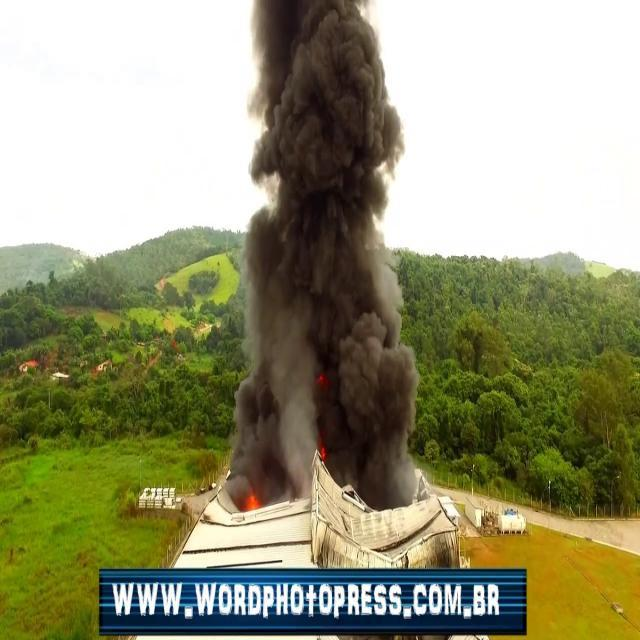Fire: (245, 494, 258, 512), (318, 443, 327, 461)
